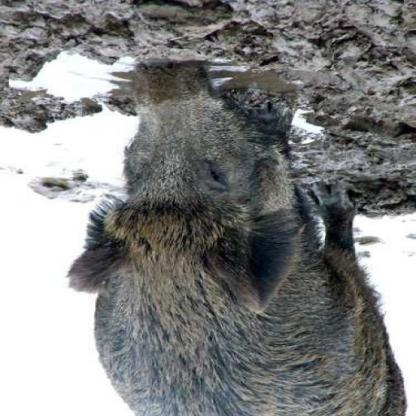boar: (46, 57, 415, 416)
